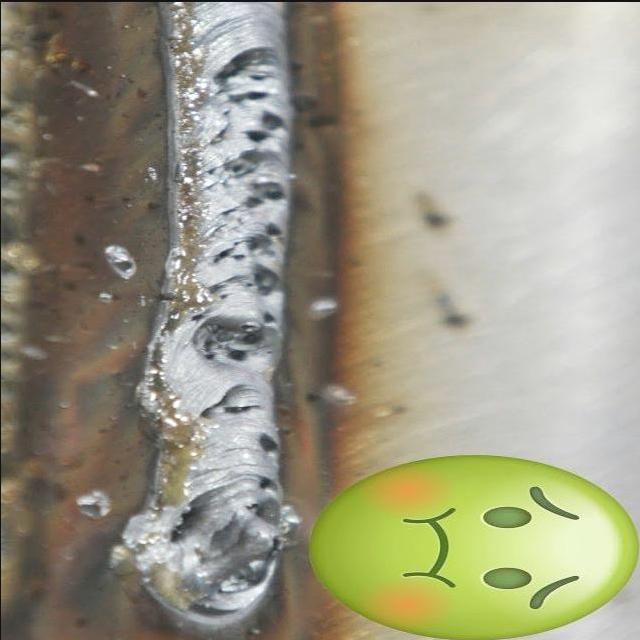defect: (204, 106, 285, 214), (209, 220, 284, 298), (185, 304, 278, 366), (214, 528, 284, 594), (222, 68, 271, 106), (196, 401, 263, 428), (167, 500, 203, 544), (250, 428, 285, 454), (250, 470, 277, 491), (242, 497, 265, 518)
